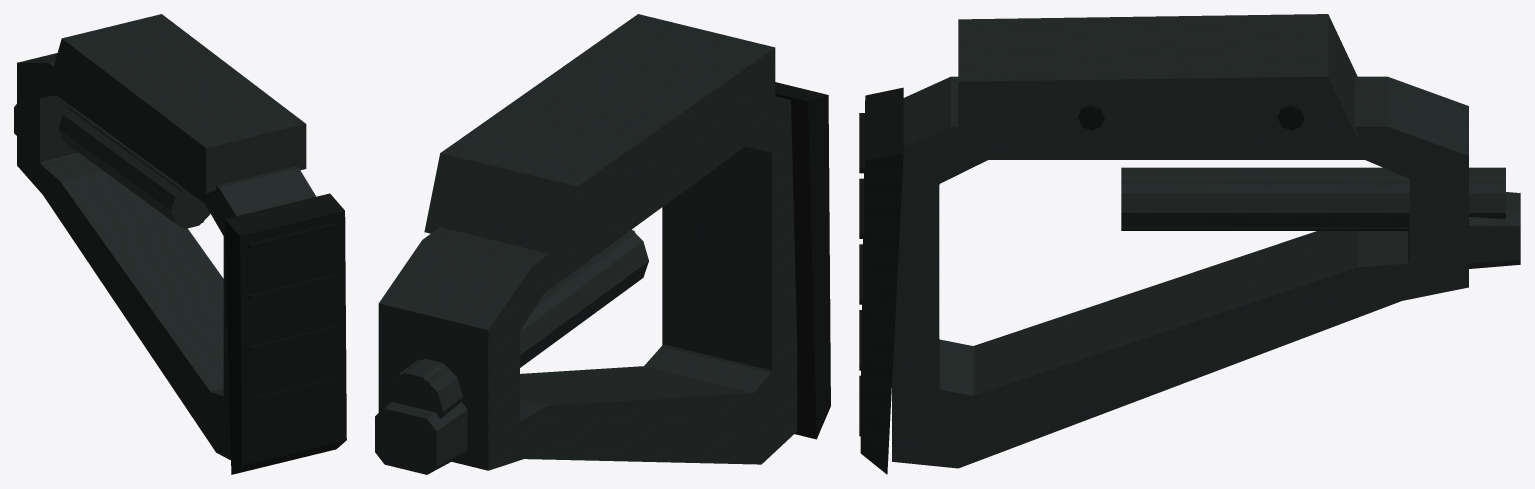
The model's file is ar_precision.glb.
3 views of the same model, side by side, from view 1: azimuth 30°, elevation 25°; view 2: azimuth 150°, elevation 25°; view 3: azimuth 270°, elevation 25° (orthographic). The views are drawn at different scales.
Parts seen in each view (by area): view 1: stock__ar_precision_LOD0_RAID_Secondary_Original_polymer, stock__ar_precision_LOD0_RAID_Secondary_Original_rubber, stock__ar_precision_LOD1_RAID_Secondary_Original_rubber, stock__ar_precision_LOD1_RAID_Secondary_Original_polymer; view 2: stock__ar_precision_LOD0_RAID_Secondary_Original_polymer, stock__ar_precision_LOD1_RAID_Secondary_Original_polymer, stock__ar_precision_LOD0_RAID_Secondary_Original_rubber, stock__ar_precision_LOD1_RAID_Secondary_Original_rubber; view 3: stock__ar_precision_LOD0_RAID_Secondary_Original_polymer, stock__ar_precision_LOD1_RAID_Secondary_Original_polymer, stock__ar_precision_LOD0_RAID_Secondary_Original_rubber, stock__ar_precision_LOD1_RAID_Secondary_Original_rubber.
Part boxes in pixels (left/top/right/bottom): stock__ar_precision_LOD0_RAID_Secondary_Original_polymer: left=14, top=14, right=314, bottom=458; stock__ar_precision_LOD0_RAID_Secondary_Original_rubber: left=225, top=195, right=344, bottom=472; stock__ar_precision_LOD1_RAID_Secondary_Original_rubber: left=225, top=193, right=346, bottom=474; stock__ar_precision_LOD1_RAID_Secondary_Original_polymer: left=17, top=53, right=315, bottom=460; stock__ar_precision_LOD0_RAID_Secondary_Original_polymer: left=375, top=14, right=796, bottom=474; stock__ar_precision_LOD1_RAID_Secondary_Original_polymer: left=378, top=96, right=797, bottom=470; stock__ar_precision_LOD0_RAID_Secondary_Original_rubber: left=775, top=86, right=829, bottom=436; stock__ar_precision_LOD1_RAID_Secondary_Original_rubber: left=775, top=82, right=830, bottom=439; stock__ar_precision_LOD0_RAID_Secondary_Original_polymer: left=893, top=14, right=1520, bottom=466; stock__ar_precision_LOD1_RAID_Secondary_Original_polymer: left=892, top=76, right=1505, bottom=468; stock__ar_precision_LOD0_RAID_Secondary_Original_rubber: left=859, top=102, right=1304, bottom=470; stock__ar_precision_LOD1_RAID_Secondary_Original_rubber: left=860, top=87, right=903, bottom=474.
Size of the model in its own units: 0.1055 by 0.297 by 0.447.
2 materials, 2 textured.
